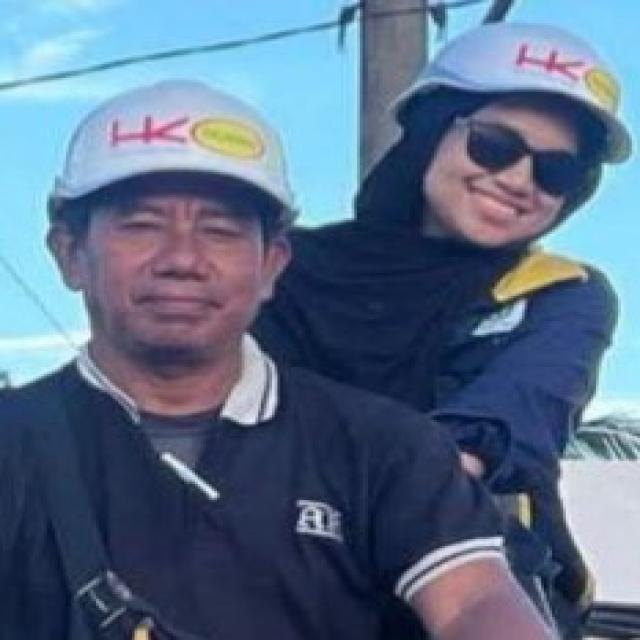safetyhelmet: (53, 78, 301, 356), (380, 22, 640, 246)
